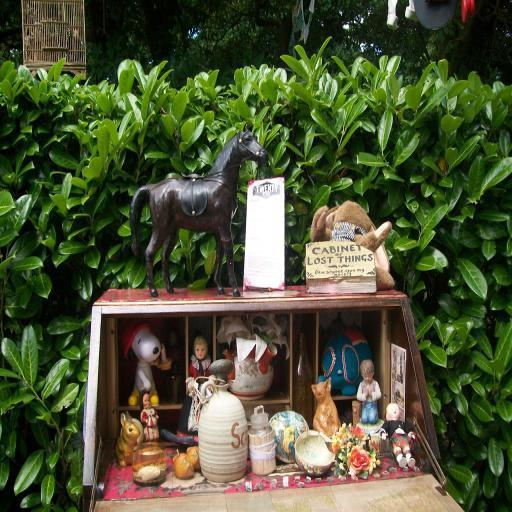horse: (130, 122, 268, 298)
